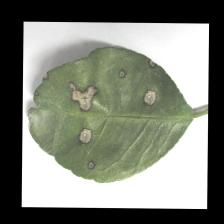canker: (30, 56, 176, 156)
